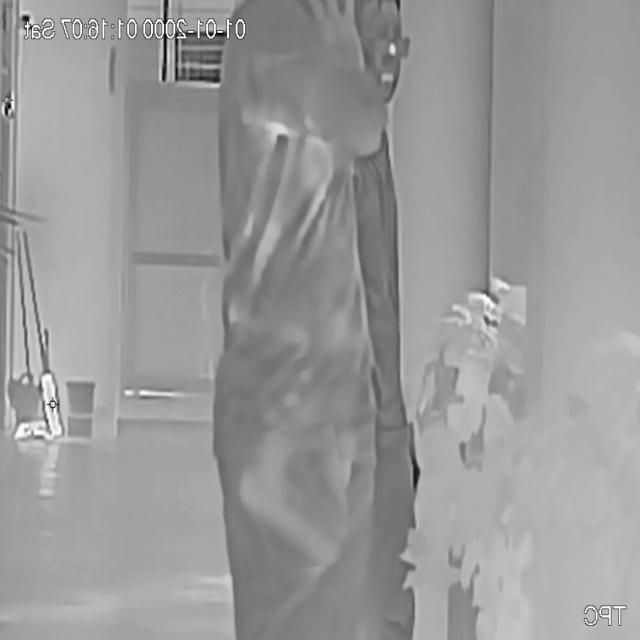Weapon: (228, 424, 352, 576)
